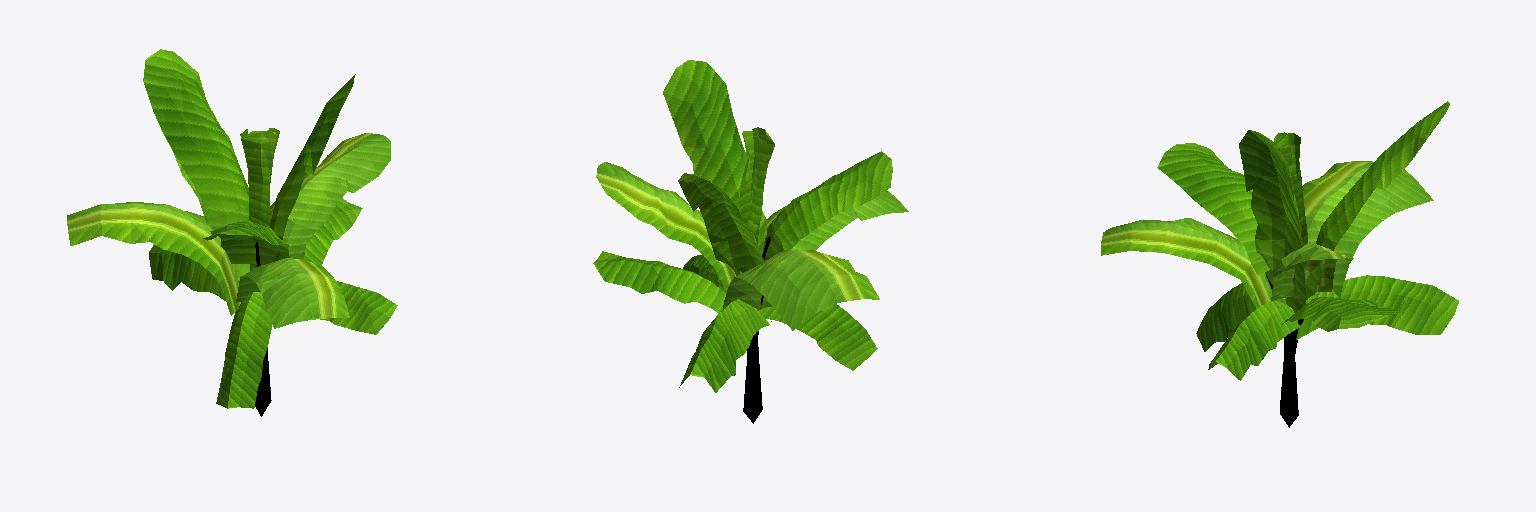
3 renders of one model, left to right at view 1: azimuth 30°, elevation 25°; view 2: azimuth 150°, elevation 25°; view 3: azimuth 270°, elevation 25°, orthographic.
Visible parts, largest first — view 1: Bananatree, Bananatre0; view 2: Bananatree, Bananatre0; view 3: Bananatree, Bananatre0.
Part boxes in pixels (x1,y1,x2,y2): Bananatree: (67, 49, 397, 408); Bananatre0: (255, 348, 271, 416); Bananatree: (593, 60, 908, 392); Bananatre0: (743, 338, 762, 423); Bananatree: (1101, 101, 1458, 380); Bananatre0: (1280, 334, 1298, 427).
Size of the model in its own units: 5.62 by 6.02 by 5.86.
2 materials, 1 textured.